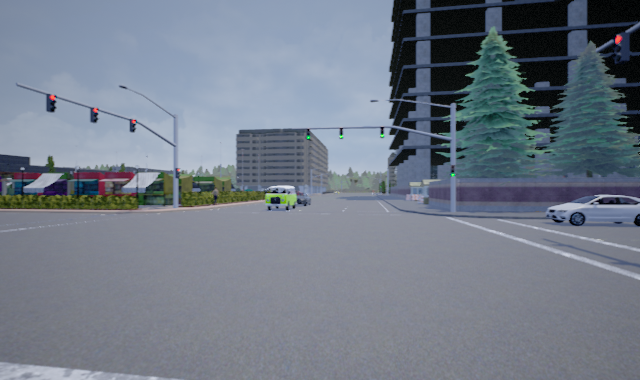pedestrian: (210, 186, 220, 205)
vehicle: (546, 194, 639, 225), (264, 185, 296, 211), (289, 192, 311, 207)
